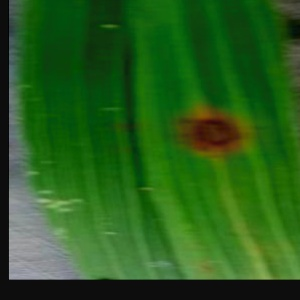Bacterial_Leaf_Blight: (171, 106, 250, 163)
